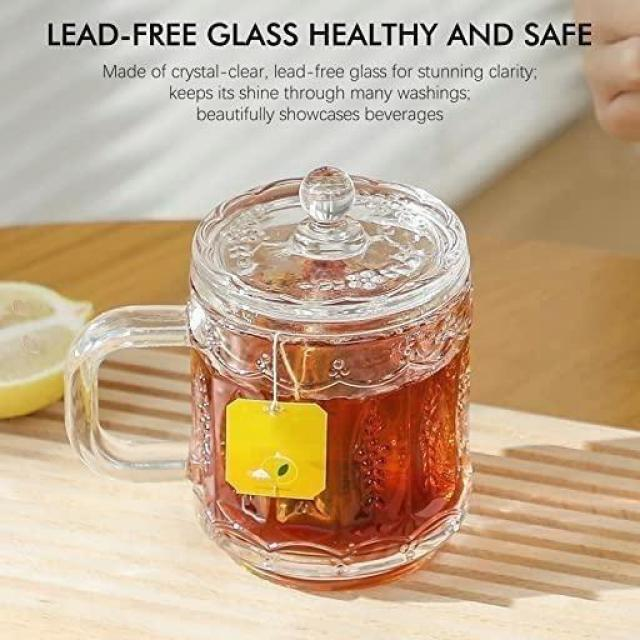glass-mug: (56, 158, 482, 598)
